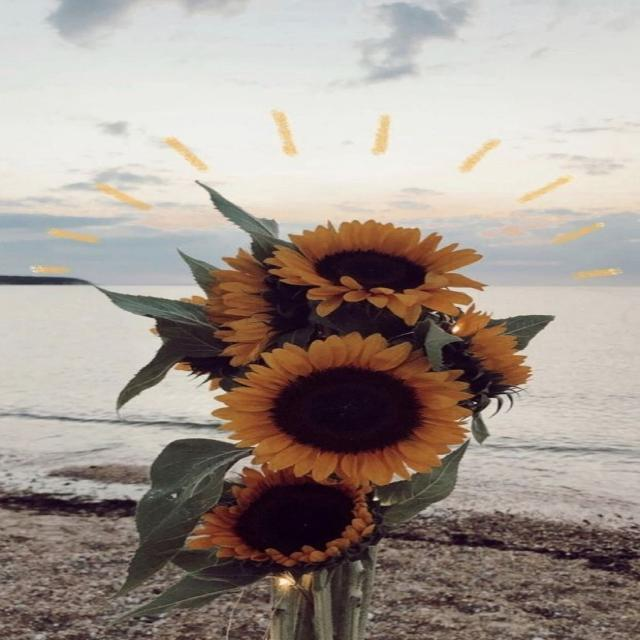sunflower: (210, 331, 474, 486), (263, 218, 487, 326), (184, 463, 380, 569), (202, 246, 275, 367), (150, 295, 228, 391), (448, 303, 532, 387)
